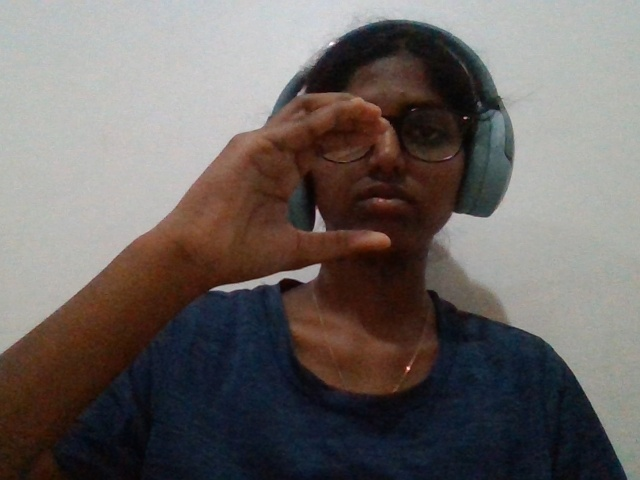C: (104, 76, 452, 305)
